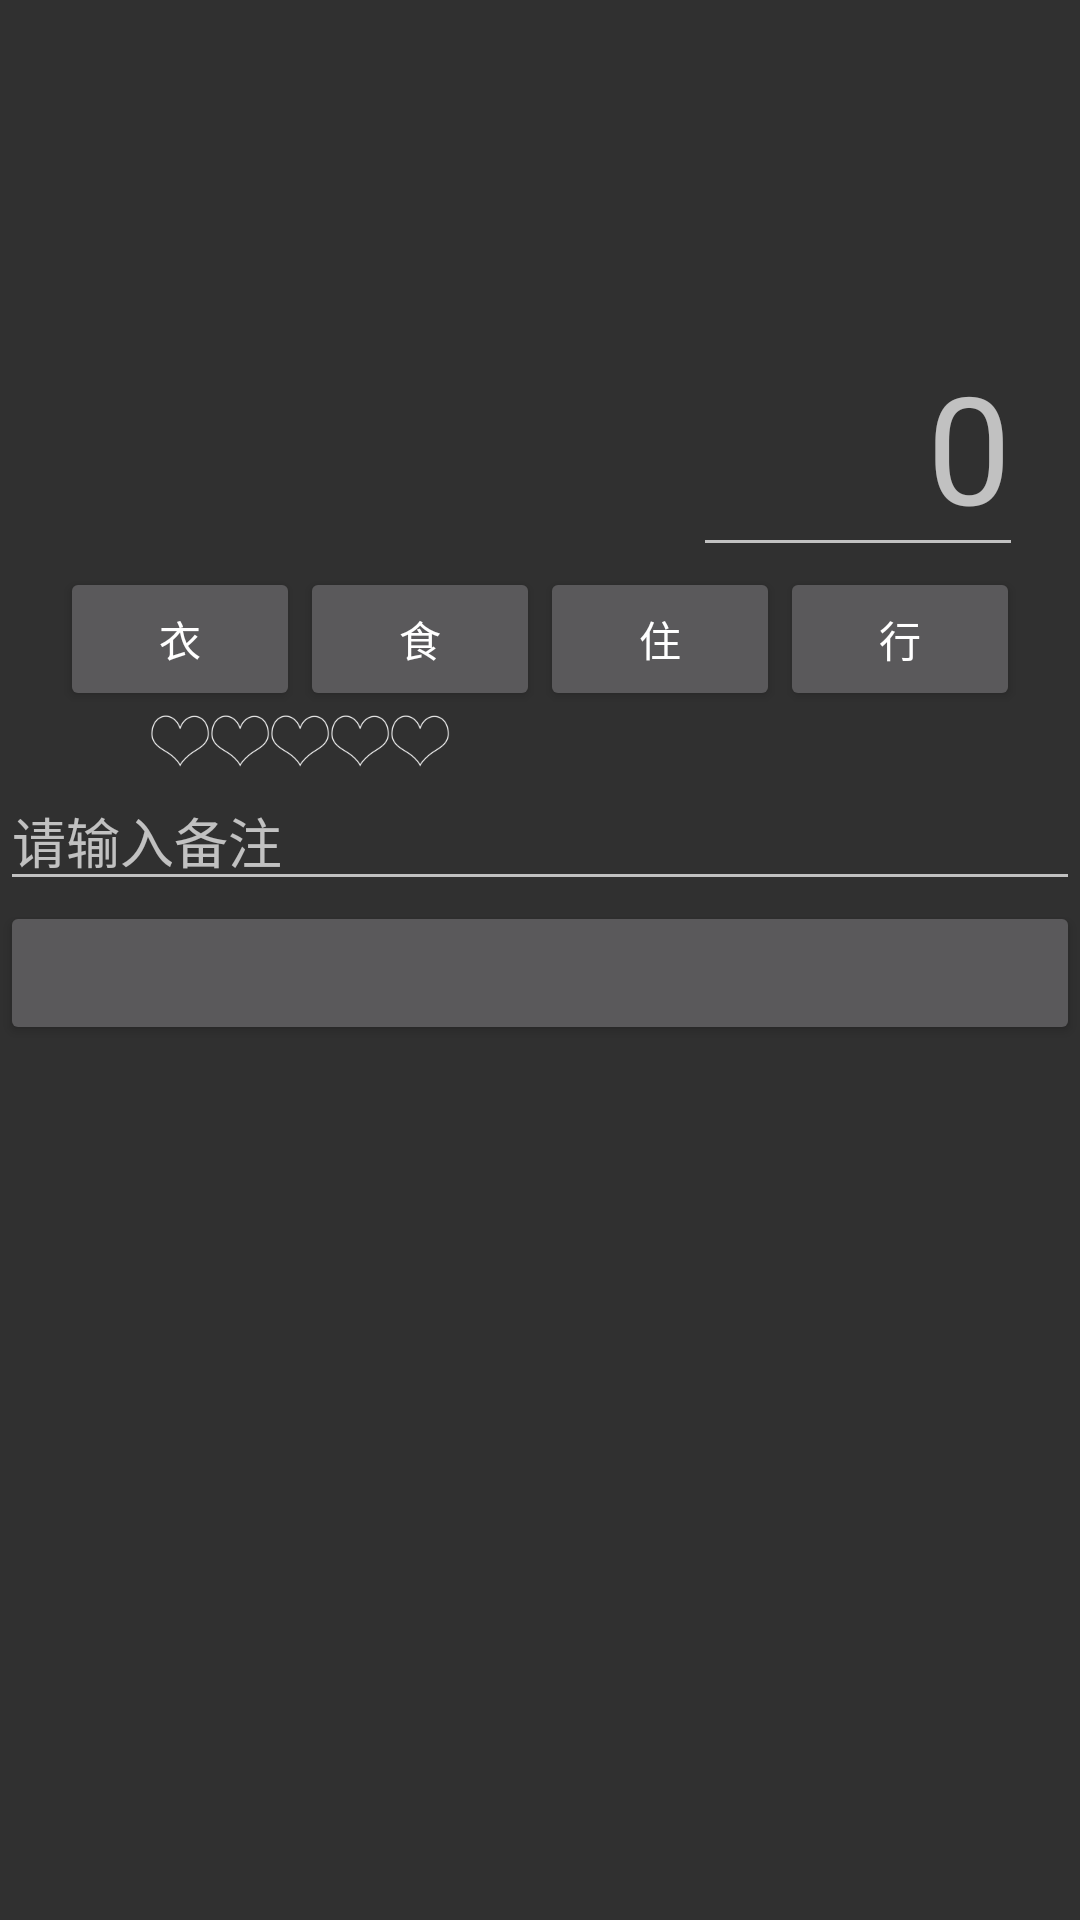

Screen size 1080×1920. Icon name, then its center in pixels as (x=x, y=y):
hearthappiness: (x=180, y=740), (x=240, y=740), (x=300, y=740), (x=360, y=740), (x=420, y=740)
